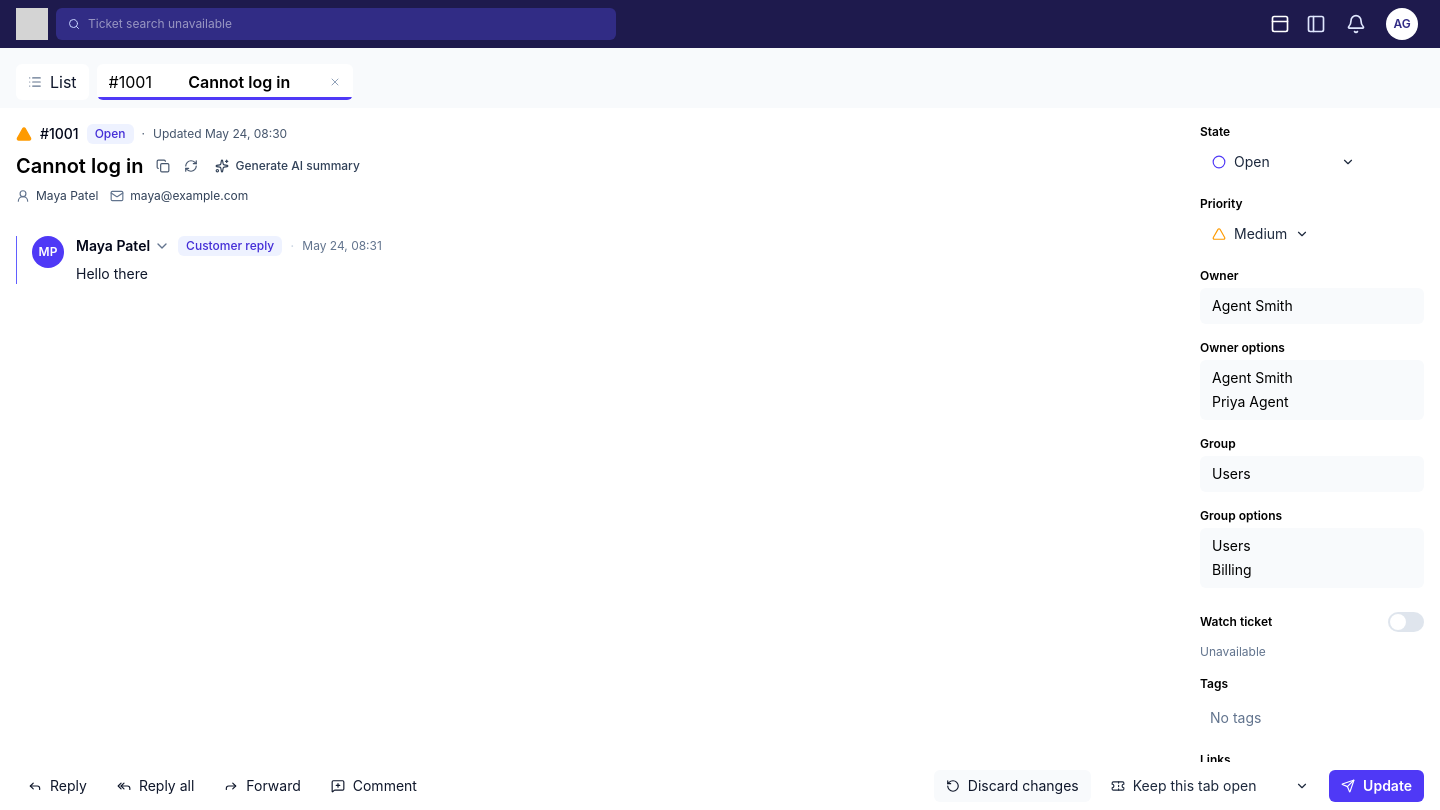
TicketWorkspace staged metadata updates › does not allow selecting past pending dates
The image size is (1440, 810).
Step 1. Click the dropdown named "Ticket state" → (1284, 162), box [1200,144,1367,180]
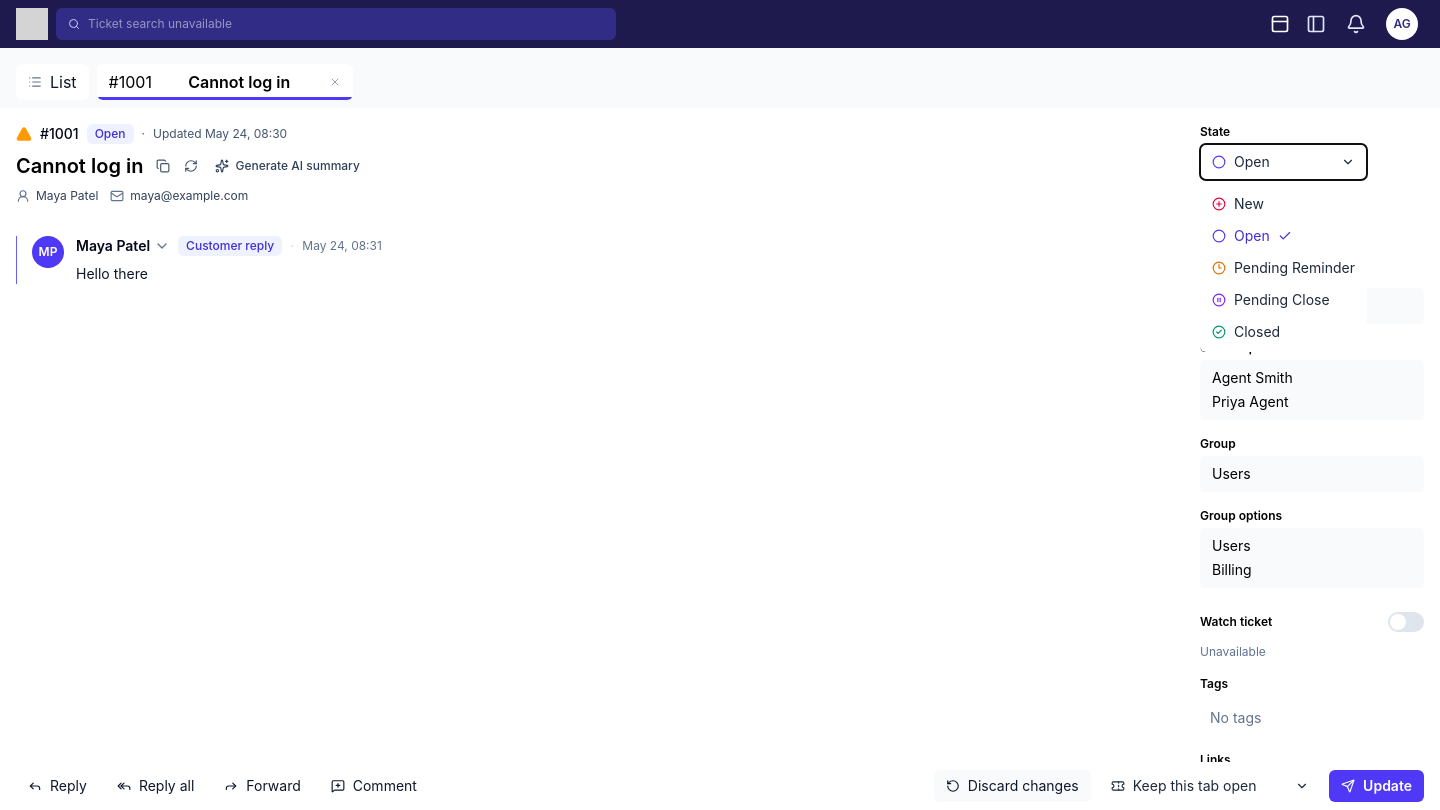
Step 2. Click the option "Pending Reminder" → (1284, 268), box [1204,252,1363,284]
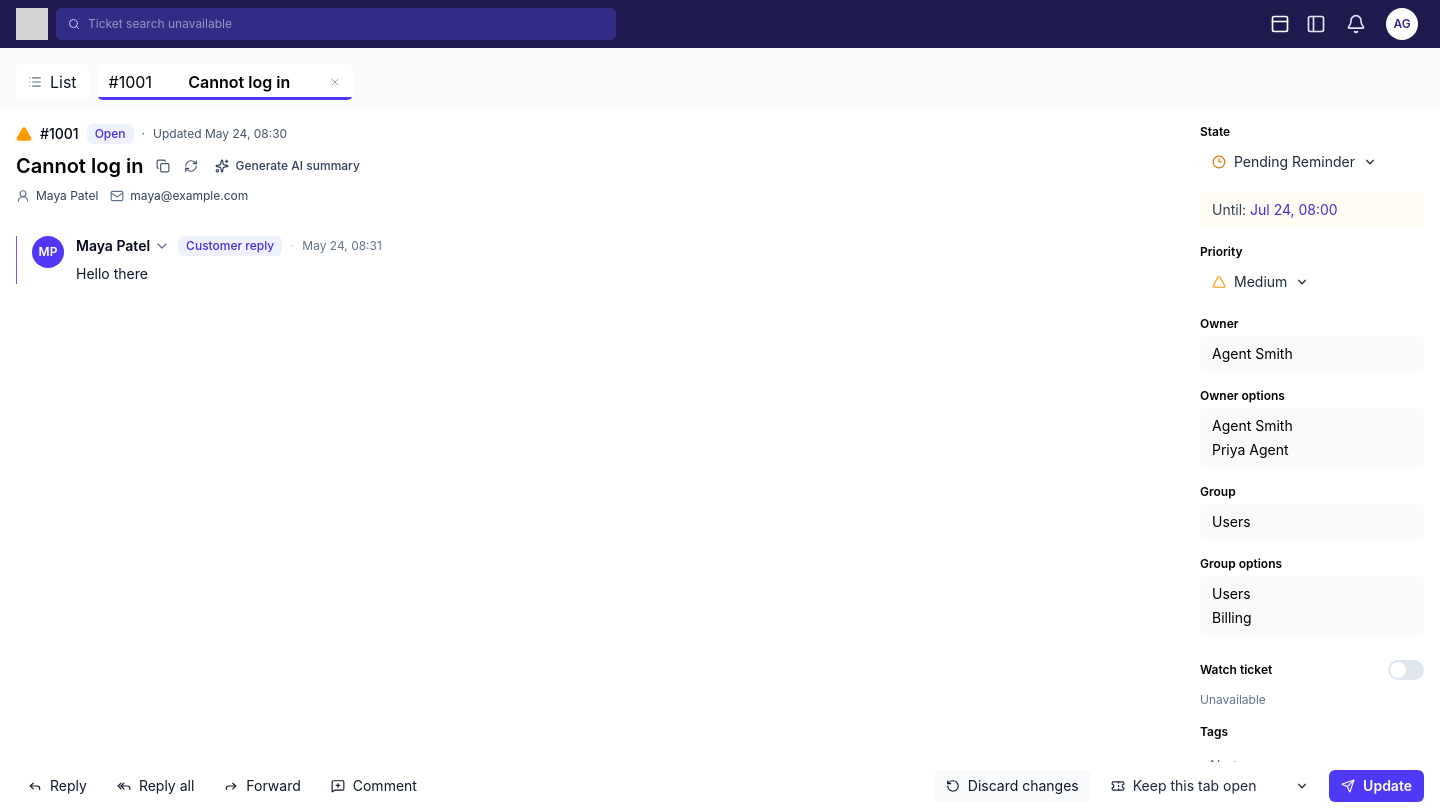
Step 3. Click the button with aria-label "Open pending date and time selector for Pending Reminder" → (1294, 210), box [1250,200,1338,220]
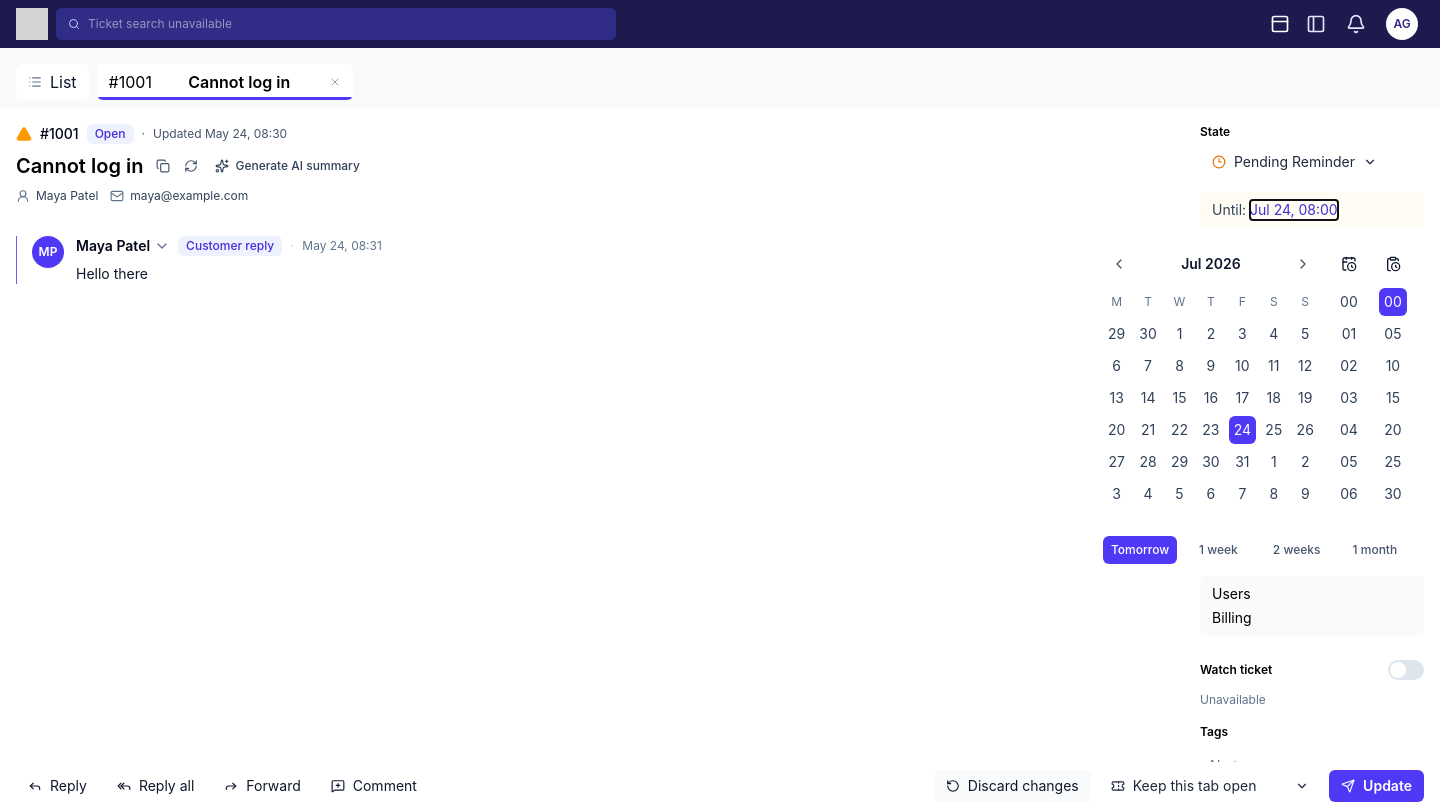
Now the button named "Select minute 05" is shown, box [1379,320,1407,348]
